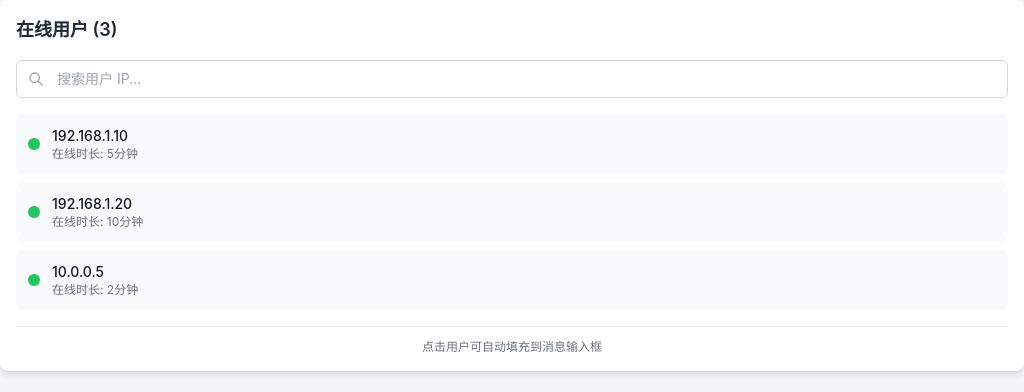
Test: OnlineUserList › filters users based on search input
Search for "192.168"
Type "192.168" into the field with placeholder "搜索用户 IP..." at {"x": 512, "y": 79}, box [16,60,1008,98]
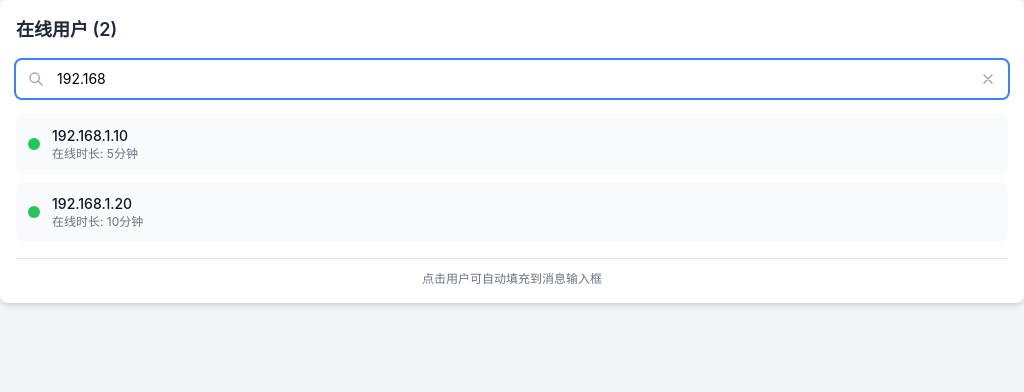
Expected: the text "192.168.1.10" is shown, [52,126,138,146]
Expected: the heading "在线用户 (2)" is shown, [16,16,117,44]
Expected: the text "10.0.0.5" is gone
